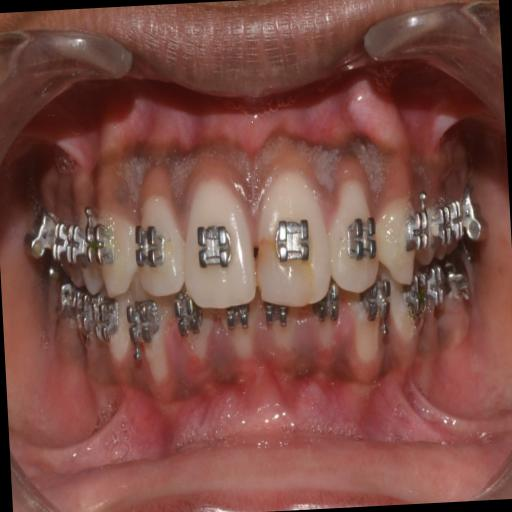correct_brace: (266, 208, 315, 270), (194, 212, 238, 276), (399, 193, 433, 261), (342, 208, 376, 274), (132, 226, 170, 274), (88, 214, 118, 270)
incorrect_brace: (326, 164, 380, 298), (130, 182, 188, 304)
